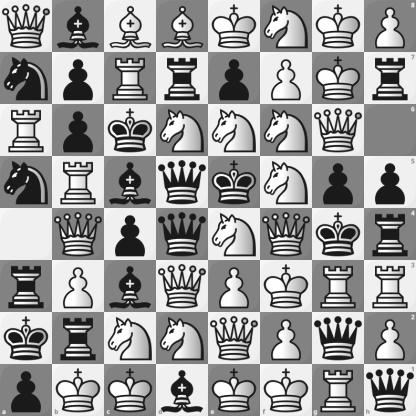B: (105, 1, 156, 52), (157, 1, 208, 52)
K: (52, 364, 104, 416), (104, 364, 156, 416), (260, 364, 312, 416), (209, 364, 260, 416), (209, 1, 260, 52), (261, 261, 312, 312), (313, 1, 364, 52), (313, 53, 364, 104)
N: (105, 313, 156, 364), (157, 105, 208, 156), (157, 313, 208, 364), (209, 105, 260, 156), (209, 209, 260, 260), (261, 1, 312, 52), (261, 105, 312, 156), (261, 157, 312, 208)
P: (364, 0, 416, 52), (364, 312, 416, 364), (53, 261, 104, 312), (209, 261, 260, 312), (261, 53, 312, 104), (261, 313, 312, 364)
Q: (1, 1, 52, 52), (53, 209, 104, 260), (157, 261, 208, 312), (209, 313, 260, 364), (261, 209, 312, 260), (313, 105, 364, 156)
R: (312, 364, 364, 416), (364, 260, 416, 312), (1, 105, 52, 156), (53, 157, 104, 208), (105, 53, 156, 104), (313, 261, 364, 312)
b: (156, 364, 209, 416), (53, 1, 104, 52), (105, 157, 156, 208), (105, 261, 156, 312)
board: (0, 0, 415, 415)
k: (1, 313, 52, 364), (105, 105, 156, 156), (209, 157, 260, 208), (313, 209, 364, 260)
n: (1, 53, 52, 104), (1, 157, 52, 208)
p: (364, 156, 416, 209), (0, 364, 52, 416), (53, 53, 104, 104), (53, 105, 104, 156), (105, 209, 156, 260), (209, 53, 260, 104), (313, 157, 364, 208)
q: (364, 364, 416, 416), (157, 157, 208, 208), (157, 209, 208, 260), (313, 313, 364, 364)
r: (364, 52, 416, 104), (364, 209, 416, 260), (1, 261, 52, 312), (53, 313, 104, 364), (157, 53, 208, 104)
